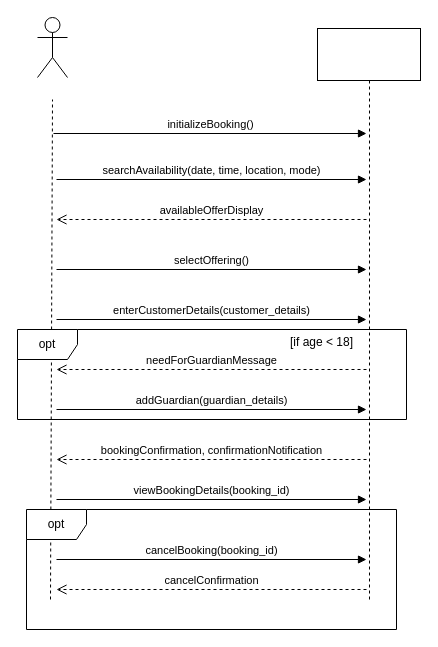
Image size: 438x647. Some labels were removed from this diagram. The box of each missing label's shape, as (x1, y1, x2, y2) in pixels:
: System: (316, 28, 420, 80)
:Client: (36, 16, 68, 78)
